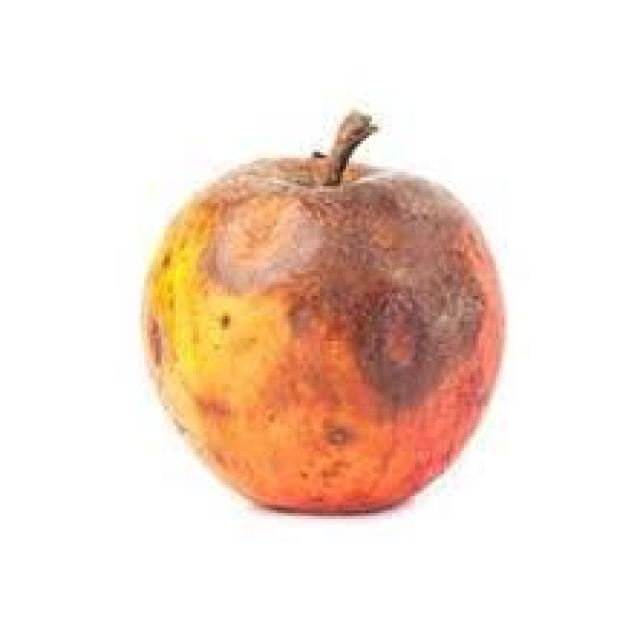maca: (138, 107, 508, 513)
